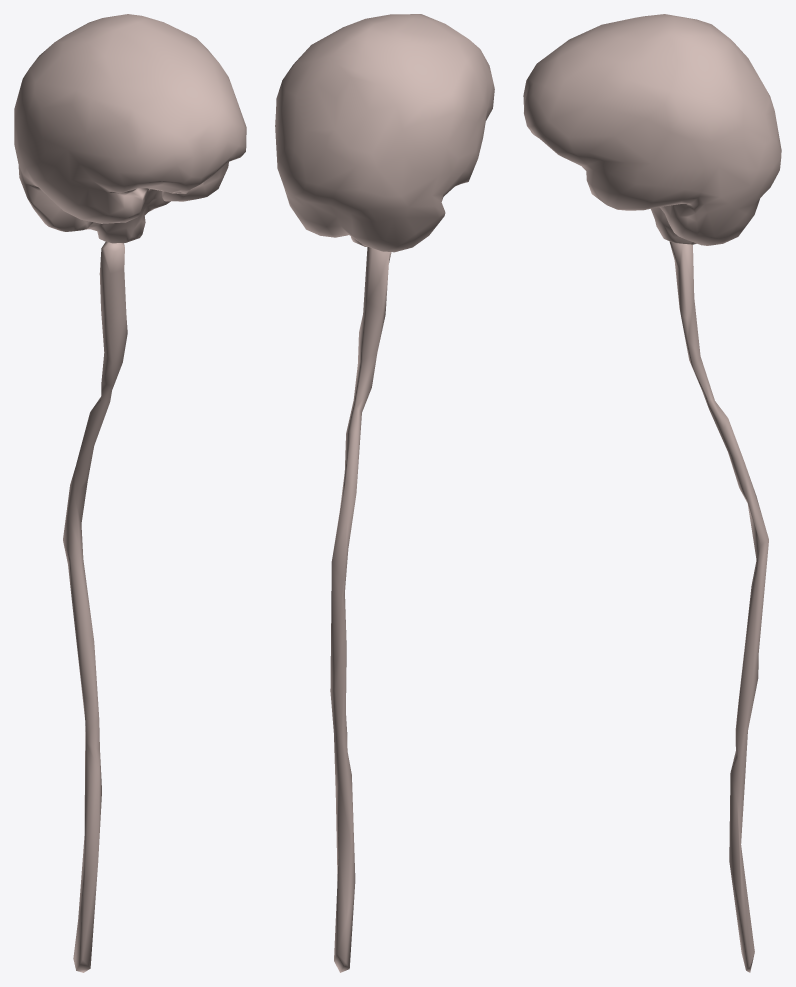
File: pediatric_adolescent_male.nervous.LOD2.glb
3 views of the same model, side by side, from view 1: azimuth 30°, elevation 25°; view 2: azimuth 150°, elevation 25°; view 3: azimuth 270°, elevation 25° (orthographic). The views are drawn at different scales.
Parts seen in each view (by area): view 1: PEDIATRIC.ADOLESCENT.MALE.NERVOUS.BRAIN, PEDIATRIC.ADOLESCENT.MALE.NERVOUS.SPINAL_CORD; view 2: PEDIATRIC.ADOLESCENT.MALE.NERVOUS.BRAIN, PEDIATRIC.ADOLESCENT.MALE.NERVOUS.SPINAL_CORD; view 3: PEDIATRIC.ADOLESCENT.MALE.NERVOUS.BRAIN, PEDIATRIC.ADOLESCENT.MALE.NERVOUS.SPINAL_CORD.
Boxes of the visible parts, left/top/right/bottom form: PEDIATRIC.ADOLESCENT.MALE.NERVOUS.BRAIN: left=14, top=14, right=246, bottom=243; PEDIATRIC.ADOLESCENT.MALE.NERVOUS.SPINAL_CORD: left=63, top=241, right=127, bottom=972; PEDIATRIC.ADOLESCENT.MALE.NERVOUS.BRAIN: left=275, top=14, right=494, bottom=252; PEDIATRIC.ADOLESCENT.MALE.NERVOUS.SPINAL_CORD: left=330, top=247, right=391, bottom=972; PEDIATRIC.ADOLESCENT.MALE.NERVOUS.BRAIN: left=523, top=14, right=781, bottom=245; PEDIATRIC.ADOLESCENT.MALE.NERVOUS.SPINAL_CORD: left=669, top=241, right=768, bottom=972.
Size of the model in its own units: 0.1335 by 0.6592 by 0.1625.
